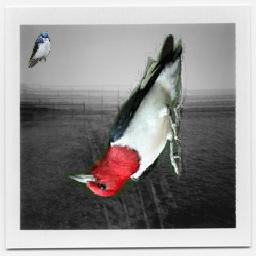Swallow: (28, 30, 51, 68)
Woodpecker: (65, 35, 188, 198)
